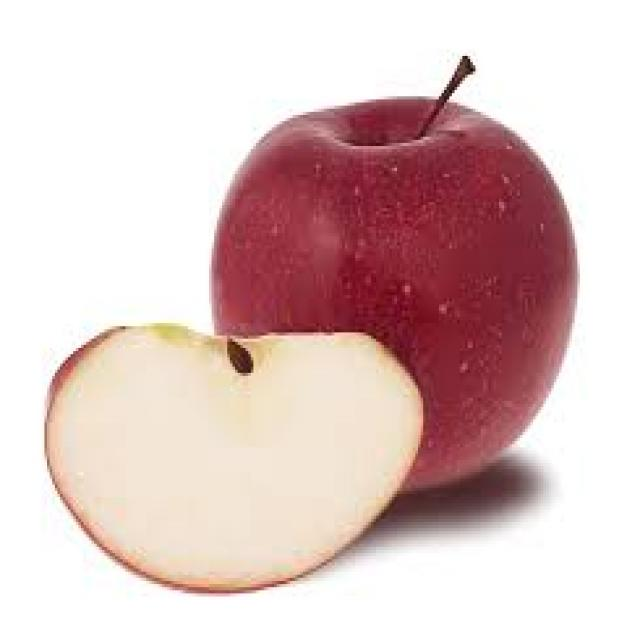Apple: (210, 96, 578, 496), (44, 320, 427, 595)
